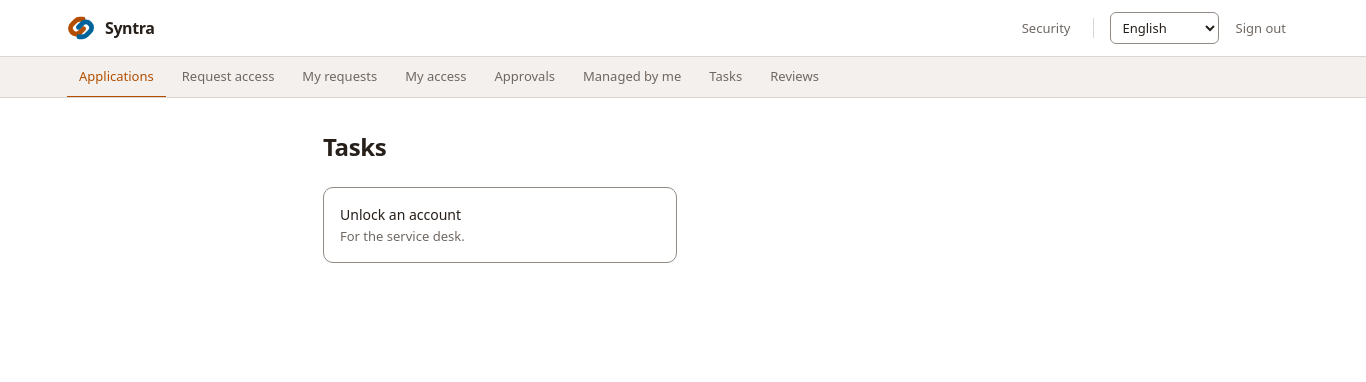
Scenario: TasksPage › keeps the portal navigation on the list and on an open task
Expected: the navigation bar named "Portal" is shown, [0,57,1365,98]
Click the button "Unlock an account For the service desk.": (401, 215) [323,187,677,263]
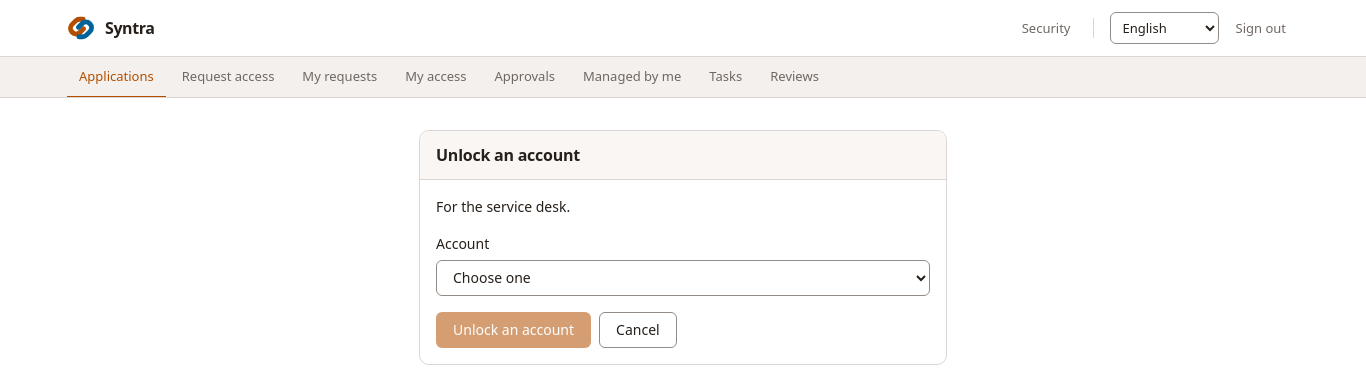
Expected: the navigation bar named "Portal" is shown, [0,57,1365,98]
Expected: the button "Unlock an account" is shown, [436,312,591,348]
